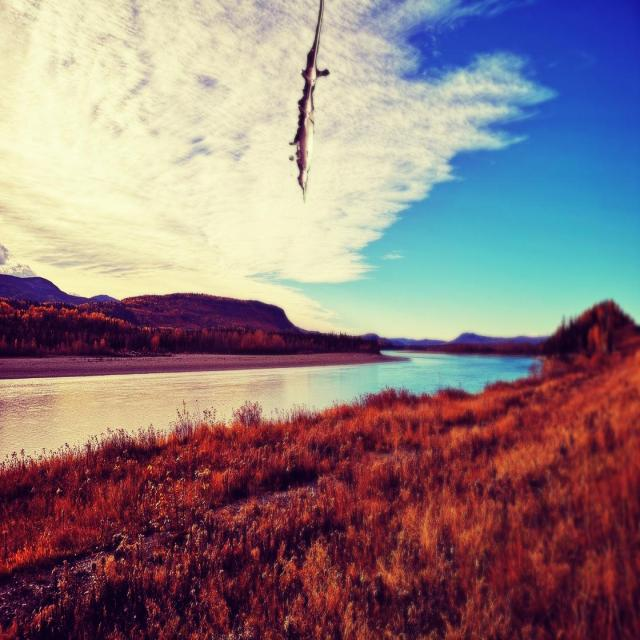airplane: (288, 0, 330, 202)
